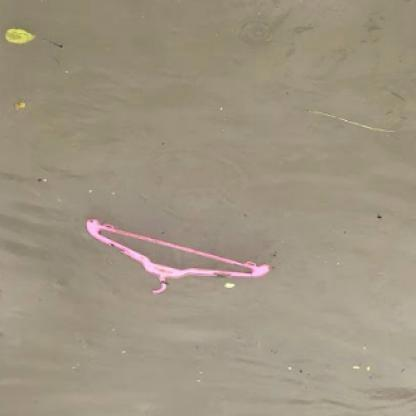Trash: (76, 216, 278, 302)
